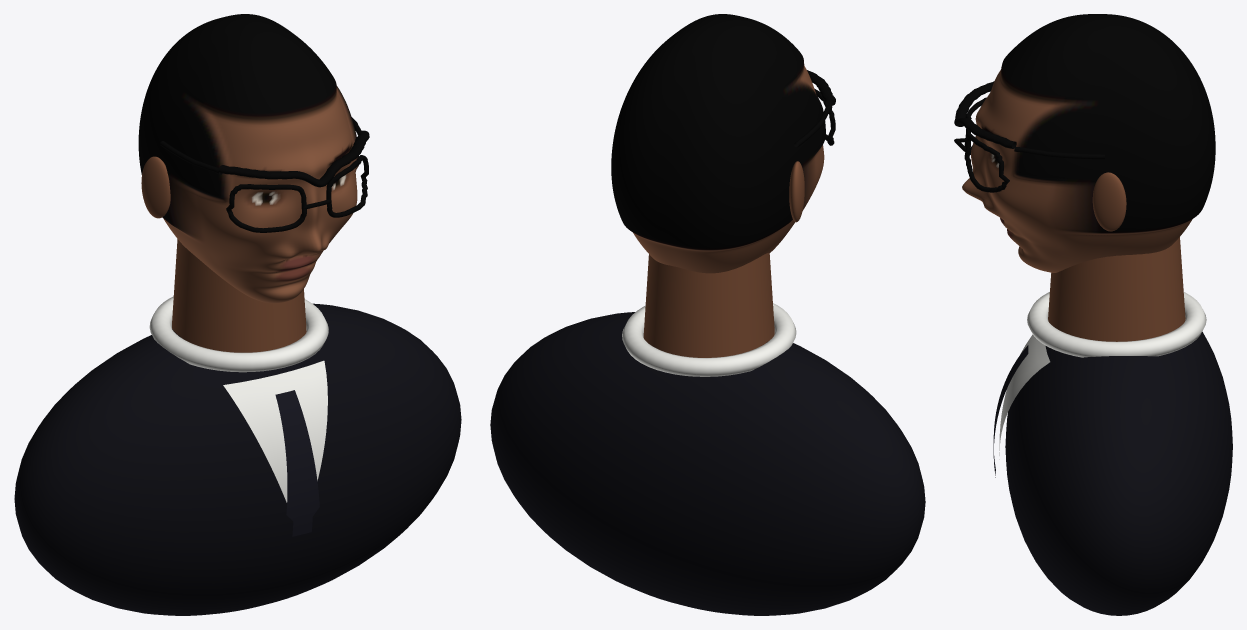
3 renders of one model, left to right at view 1: azimuth 30°, elevation 25°; view 2: azimuth 150°, elevation 25°; view 3: azimuth 270°, elevation 25°, orthographic. The views are drawn at different scales.
Visible parts, largest first — view 1: MalcolmX_head; view 2: MalcolmX_head; view 3: MalcolmX_head.
Boxes of the visible parts, left/top/right/bottom form: MalcolmX_head: left=14, top=14, right=461, bottom=615; MalcolmX_head: left=490, top=14, right=925, bottom=615; MalcolmX_head: left=954, top=14, right=1232, bottom=615.
Size of the model in its own units: 0.4 by 0.5185 by 0.2329.
